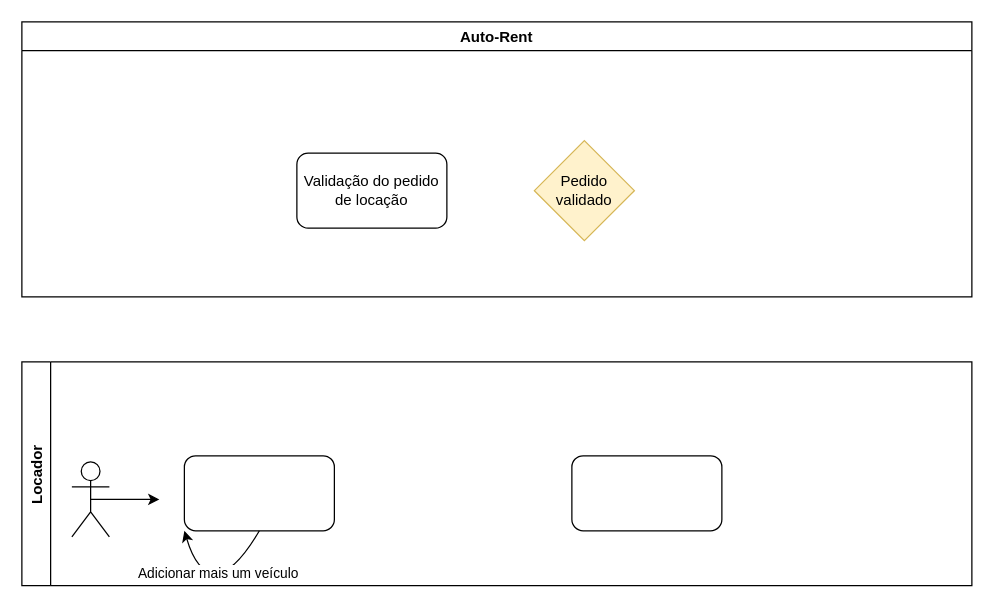
Some shapes in this 994 by 608 pixel diagram are drawn without their labels. Here are the shapes that lost their labels. From the top down, the centre of each, then its label:
At point (258, 492): "Elaboração do catalogo".
At point (646, 492): "Confirmação do aluguel".
